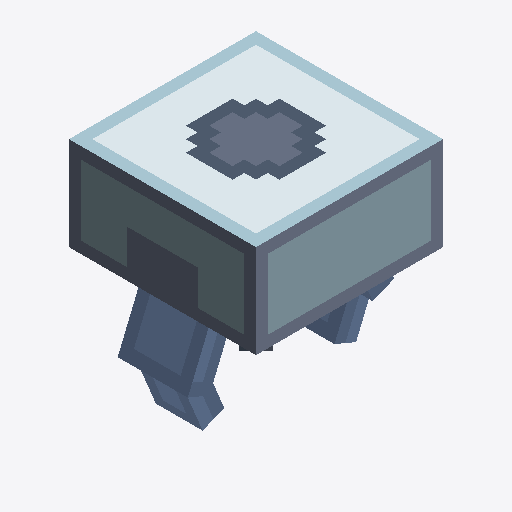
A Minecraft block model of 9 cuboids, rendered isometrically (azimuth 45°, elevation 35.3°) with the resource pack's own textures.
Parts seen in each view (by area): element 5, element 9, element 8, element 6.
Boxes of the visible parts, box(x1,y1,x2,y2) form: element 5: box(69, 31, 442, 354); element 9: box(118, 287, 225, 397); element 8: box(141, 371, 223, 430); element 6: box(306, 295, 368, 343).
Size of the model in its own units: 17.66 by 17.31 by 16.